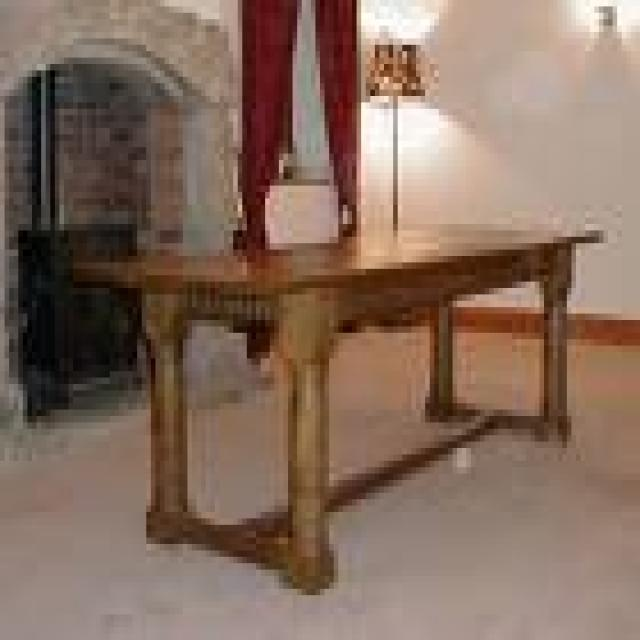table: (68, 218, 607, 600)
